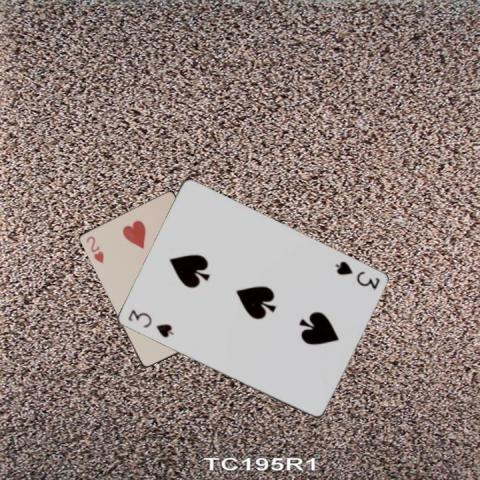2h: (84, 234, 105, 266)
3s: (331, 258, 382, 291), (125, 307, 174, 339)
